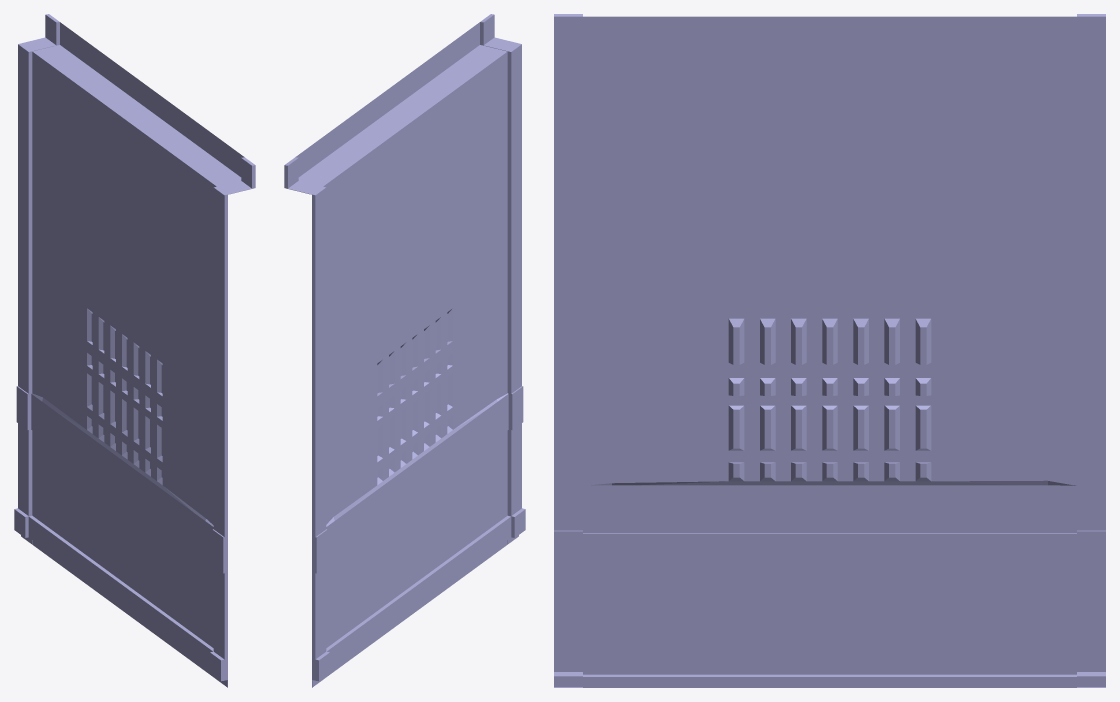
File: Wand Innen 2.fbx
3 renders of one model, left to right at view 1: azimuth 30°, elevation 25°; view 2: azimuth 150°, elevation 25°; view 3: azimuth 270°, elevation 25°, orthographic. The views are drawn at different scales.
Visible parts, largest first — view 1: Wand Innen 2; view 2: Wand Innen 2; view 3: Wand Innen 2.
Part boxes in pixels (x1,y1,x2,y2): Wand Innen 2: (14, 14, 255, 687); Wand Innen 2: (284, 14, 525, 687); Wand Innen 2: (554, 14, 1105, 687).
Bounding box in the file's own units: 37.57 × 534 × 387.
